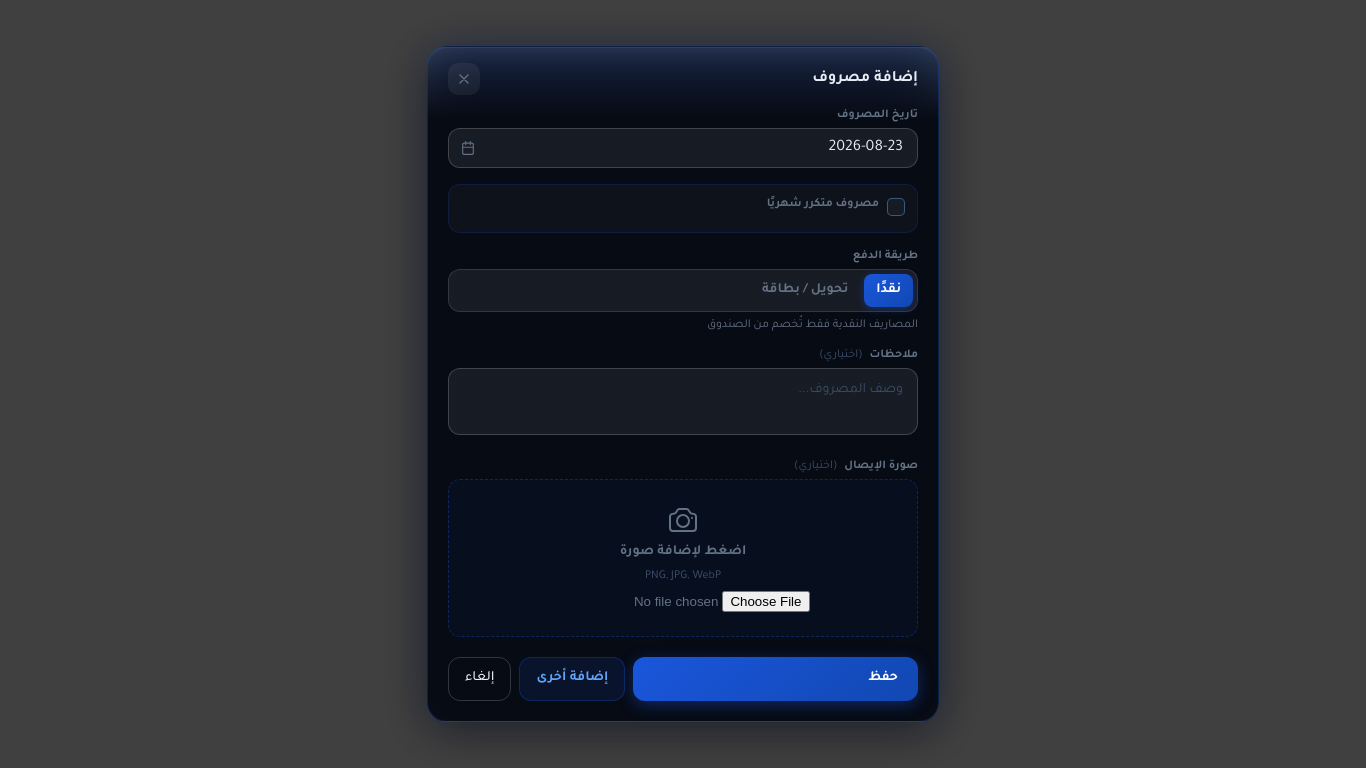
ExpenseForm › shows amount required error when saving with empty amount
(page scrolled)
Step 1. Click the button with test id "save-btn" → (883,678), box [633, 657, 918, 701]
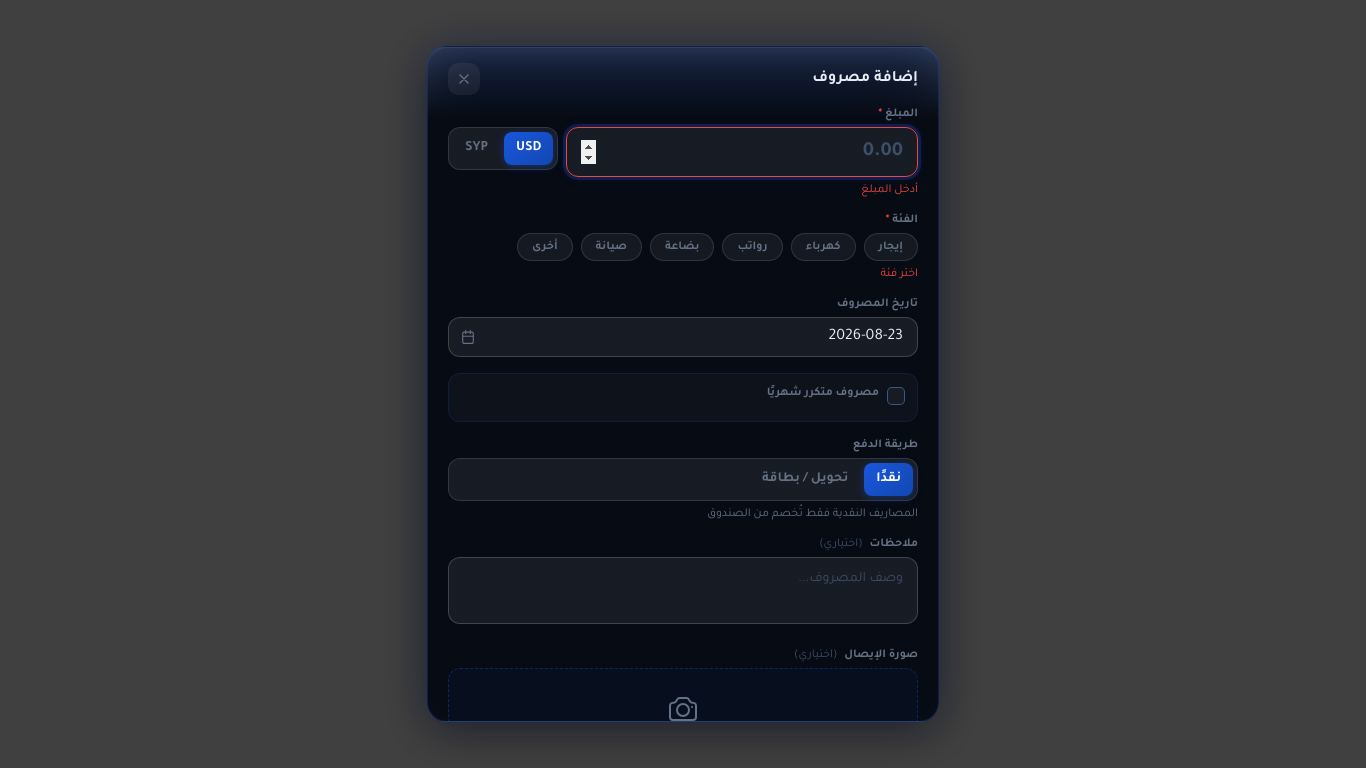
Expected: the text "أدخل المبلغ" is shown, [861, 184, 918, 196]
